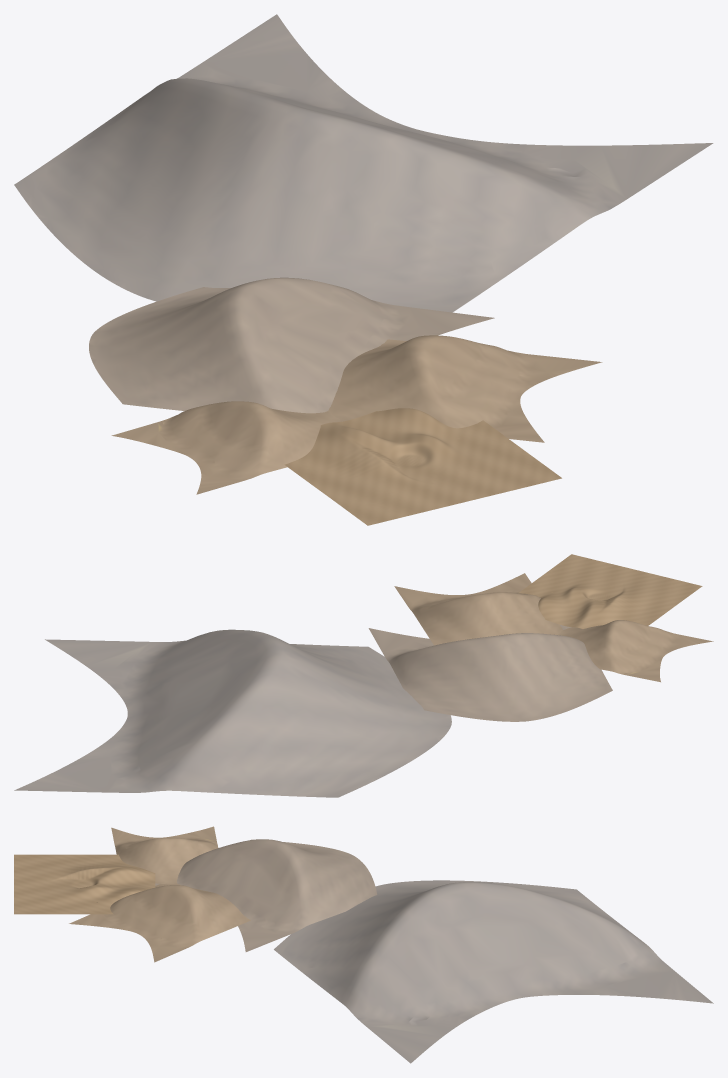
The model's file is desert-terrain_before_groundsand.glb.
3 renders of one model, top to bottom at view 1: azimuth 30°, elevation 25°; view 2: azimuth 150°, elevation 25°; view 3: azimuth 270°, elevation 25°, orthographic. The views are drawn at different scales.
Visible parts, largest first — view 1: Distant Horizon Dune.001, Background Far Ridge.001, Desert Base Terrain.001, Background Dune Right.001, Background Dune Left.001; view 2: Distant Horizon Dune.001, Background Far Ridge.001, Desert Base Terrain.001, Background Dune Right.001, Background Dune Left.001; view 3: Distant Horizon Dune.001, Background Far Ridge.001, Desert Base Terrain.001, Background Dune Right.001, Background Dune Left.001.
Part boxes in pixels (x1,y1,x2,y2): Distant Horizon Dune.001: (14,14,713,312); Background Far Ridge.001: (89,277,494,421); Desert Base Terrain.001: (284,408,561,525); Background Dune Right.001: (327,335,602,442); Background Dune Left.001: (111,401,341,494); Distant Horizon Dune.001: (14,629,451,797); Background Far Ridge.001: (368,625,612,721); Desert Base Terrain.001: (518,554,702,628); Background Dune Right.001: (394,573,562,645); Background Dune Left.001: (558,620,713,682); Distant Horizon Dune.001: (274,880,713,1063); Background Far Ridge.001: (155,839,377,951); Desert Base Terrain.001: (14,854,155,914); Background Dune Right.001: (69,883,250,962); Background Dune Left.001: (111,826,218,883).
Size of the model in its own units: 374 by 46.69 by 476.
